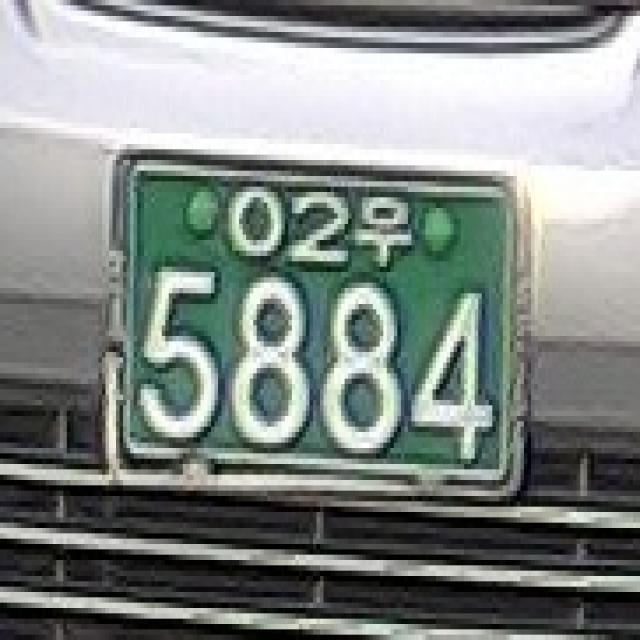0: (217, 180, 284, 264)
2: (290, 188, 352, 268)
4: (412, 276, 499, 464)
5: (136, 262, 233, 446)
8: (322, 284, 408, 462), (234, 272, 317, 456)
license_plate: (96, 132, 542, 512)
u: (354, 188, 428, 284)
